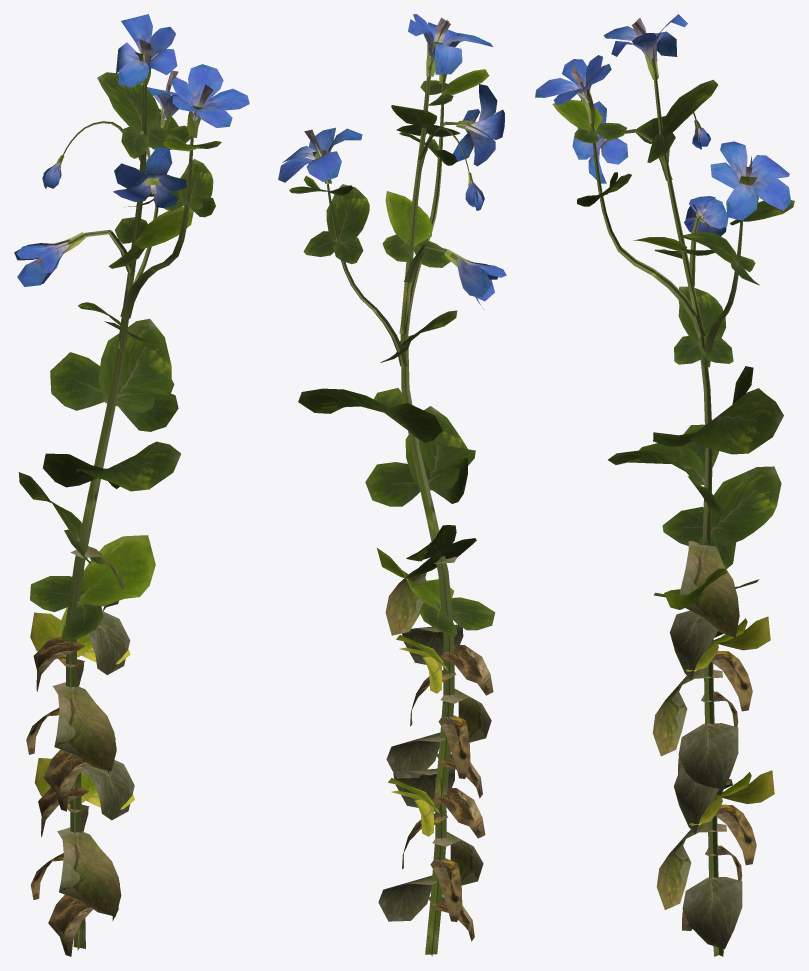
Rendered from Periwinkle_bush_short_deepblue.glb.
3 renders of one model, left to right at view 1: azimuth 30°, elevation 25°; view 2: azimuth 150°, elevation 25°; view 3: azimuth 270°, elevation 25°, orthographic. The views are drawn at different scales.
Parts seen in each view (by area): view 1: _419c_Var3_LOD1.2; view 2: _419c_Var3_LOD1.2; view 3: _419c_Var3_LOD1.2.
Boxes of the visible parts, bbox=[...] form: _419c_Var3_LOD1.2: bbox=[14, 14, 249, 956]; _419c_Var3_LOD1.2: bbox=[278, 14, 506, 956]; _419c_Var3_LOD1.2: bbox=[535, 14, 794, 956].
Size of the model in its own units: 0.6129 by 2.59 by 0.6394.
Materials: 1 (1 with a texture image).
